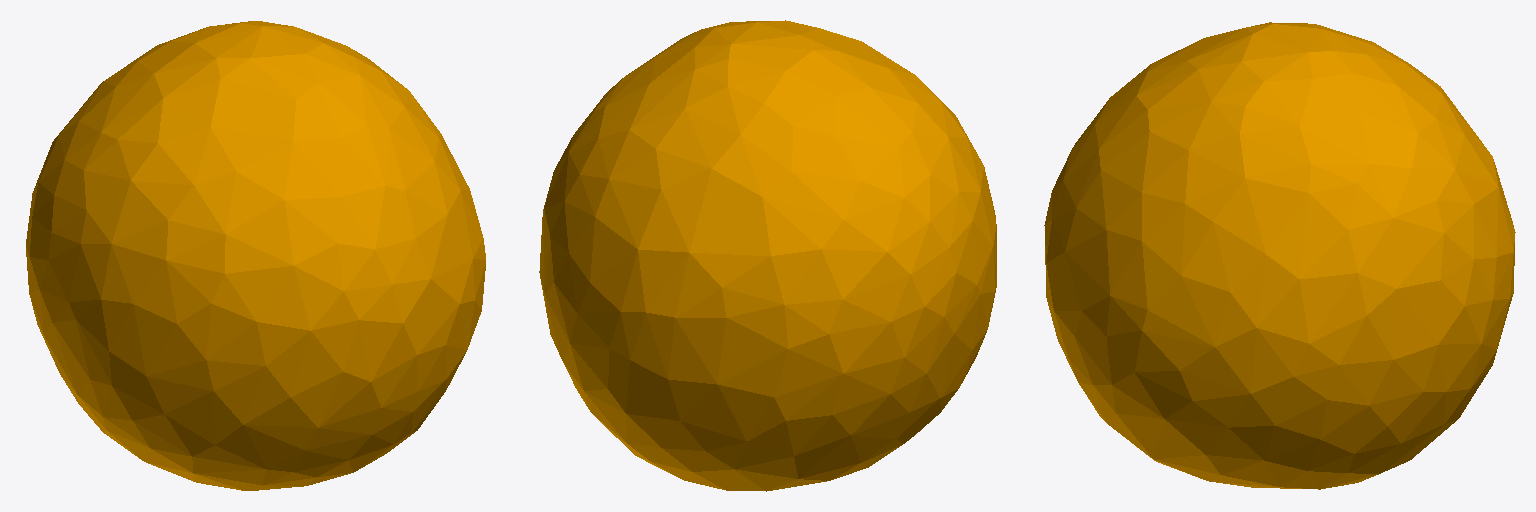
The robot description file, URDF, robot "017_orange":
<?xml version="1.0" encoding="UTF-8"?>
<robot name="017_orange">
	<link name="base">
		<collision>
			<geometry>
				<mesh filename="..\vhacd\017_orange_vhacd.obj" scale="1.0 1.0 1.0"/>
			</geometry>
			<origin xyz="0 0 0"/>
			<contact_coefficients mu="0.24" />
		</collision>
		<visual>
			<geometry>
				<mesh filename="..\vhacd\017_orange_vhacd.obj" scale="1.0 1.0 1.0"/>
			</geometry>
			<origin xyz="0 0 0"/>
		</visual>
		<inertial>
			<mass value="0"/>
			<inertia ixx="0.0" ixy="-0.0" ixz="0.0" iyy="0.0" iyz="-0.0" izz="0.0" />
			<origin xyz="-0.007142269079189508 -0.01836826278134338 0.03363364363704739"/>
		</inertial>
	</link>
</robot>

--- What the picture shows (computed from the rendered views, not written in the file) ---
Views: 3 orthographic renders of the robot side by side, from view 1: azimuth 30°, elevation 25°; view 2: azimuth 150°, elevation 25°; view 3: azimuth 270°, elevation 25°.
Robot: 017_orange — 1 links, 0 joints (none); root link base; default pose: all joints at 0.
Visible links, largest first — view 1: base; view 2: base; view 3: base.
Boxes of the visible links, x1,y1,x2,y2 form: base: (26, 21, 485, 490); base: (539, 20, 996, 491); base: (1044, 22, 1515, 489).
Bounding box of the posed robot: 0.0725 × 0.0743 × 0.0716 m (x, y, z).
Meshes: 1 distinct files referenced, 1 mesh visuals loaded (1 OBJ).